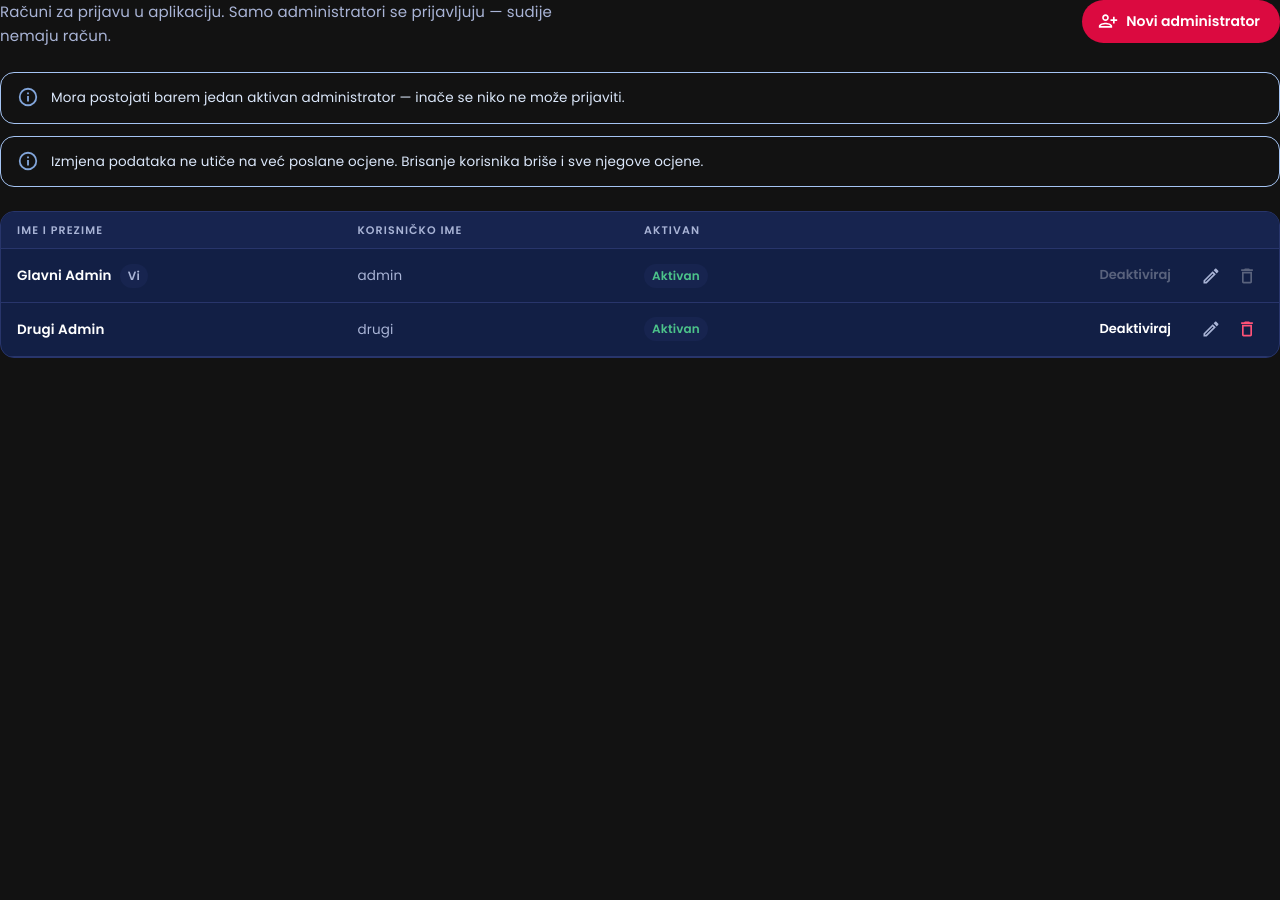
it: UsersTab › saves an edit and closes the dialog
Expected: the text "Drugi Admin" is shown, 1,302 -> 342,356
Click the button named "Izmijeni" at (1211,329), box 1195,313 -> 1227,345
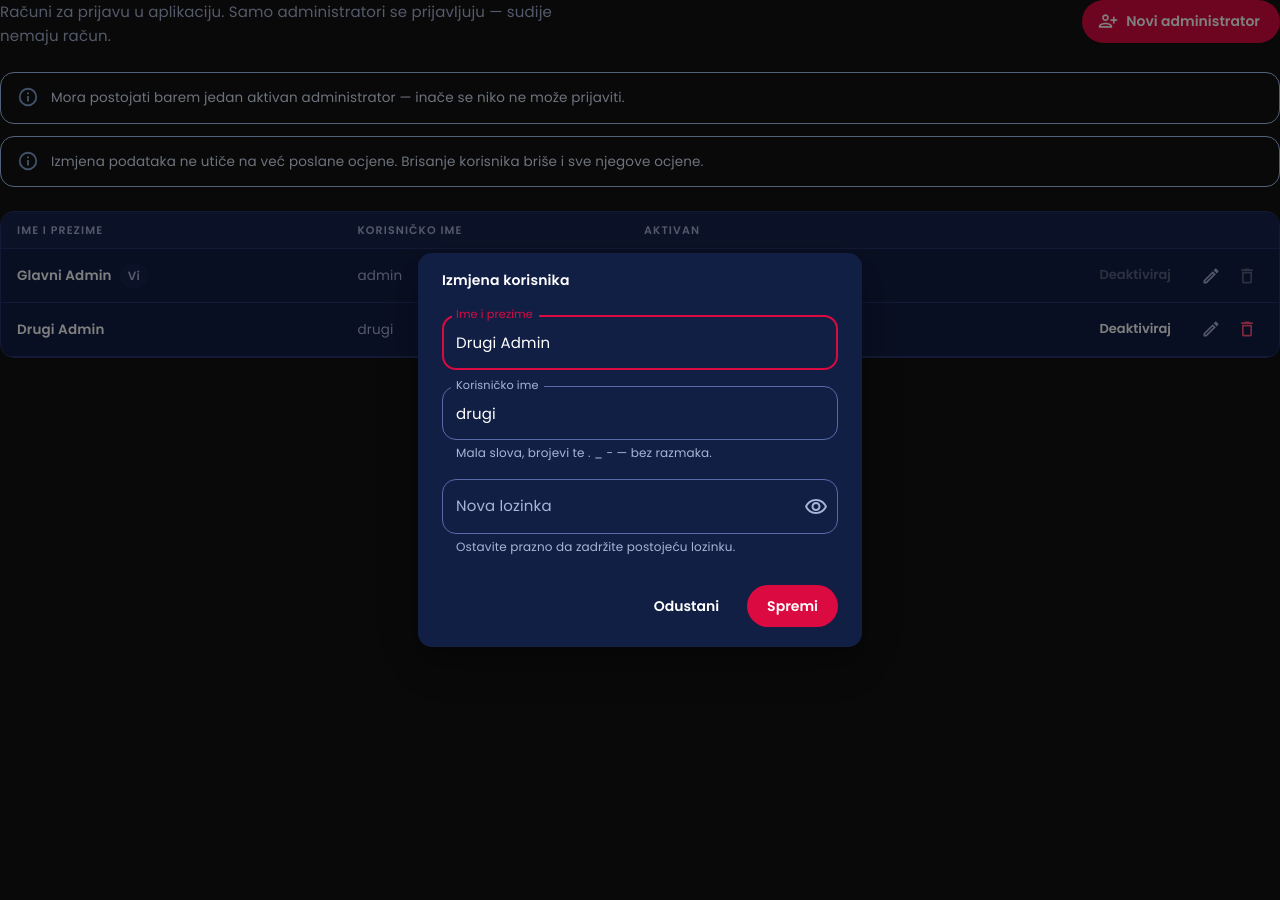
Replace the text in the field labelled "Ime i prezime" with "Sudija Jedan" at (640,342), box 442,315 -> 838,370
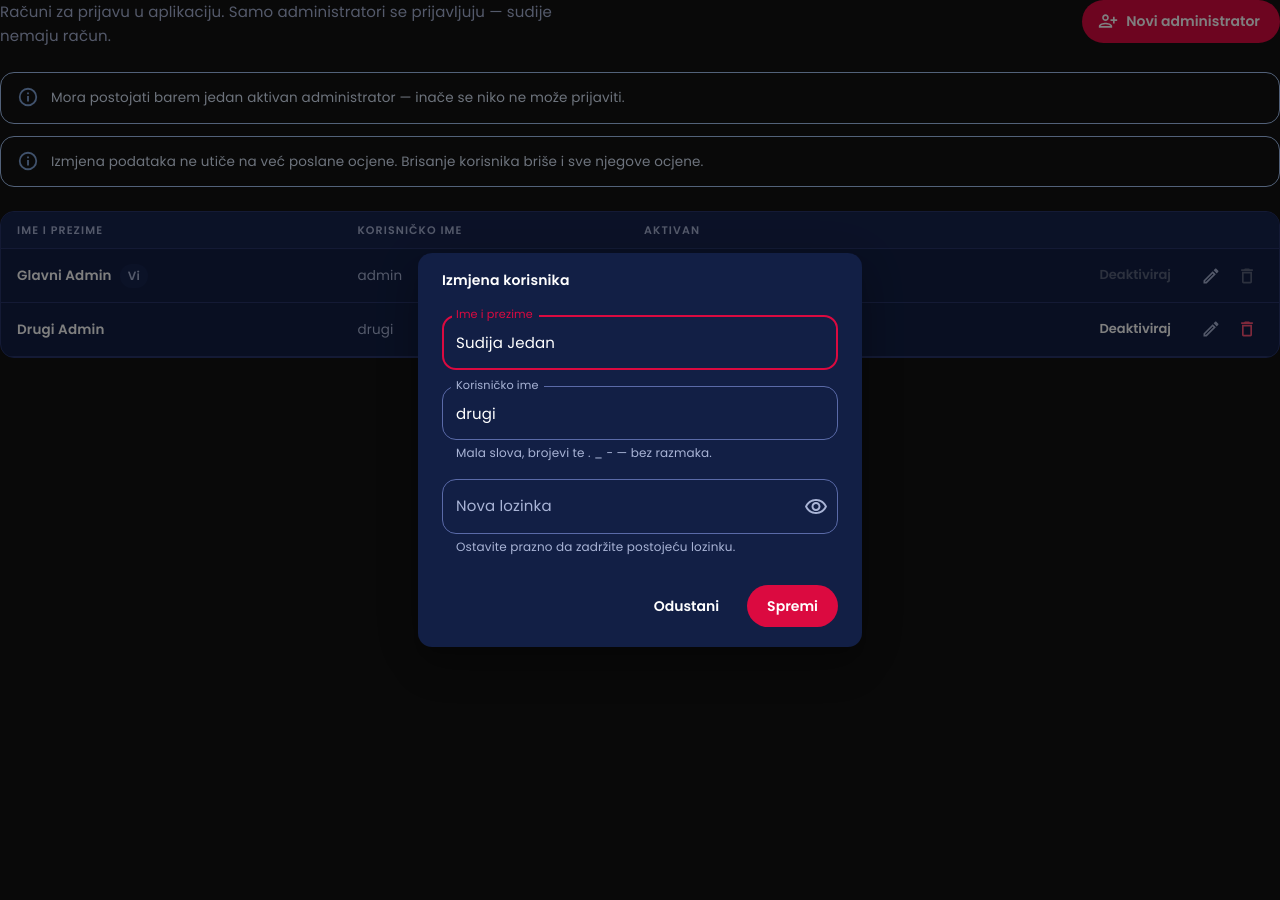
Click the button "Spremi" at (793,606), box 747,585 -> 838,627
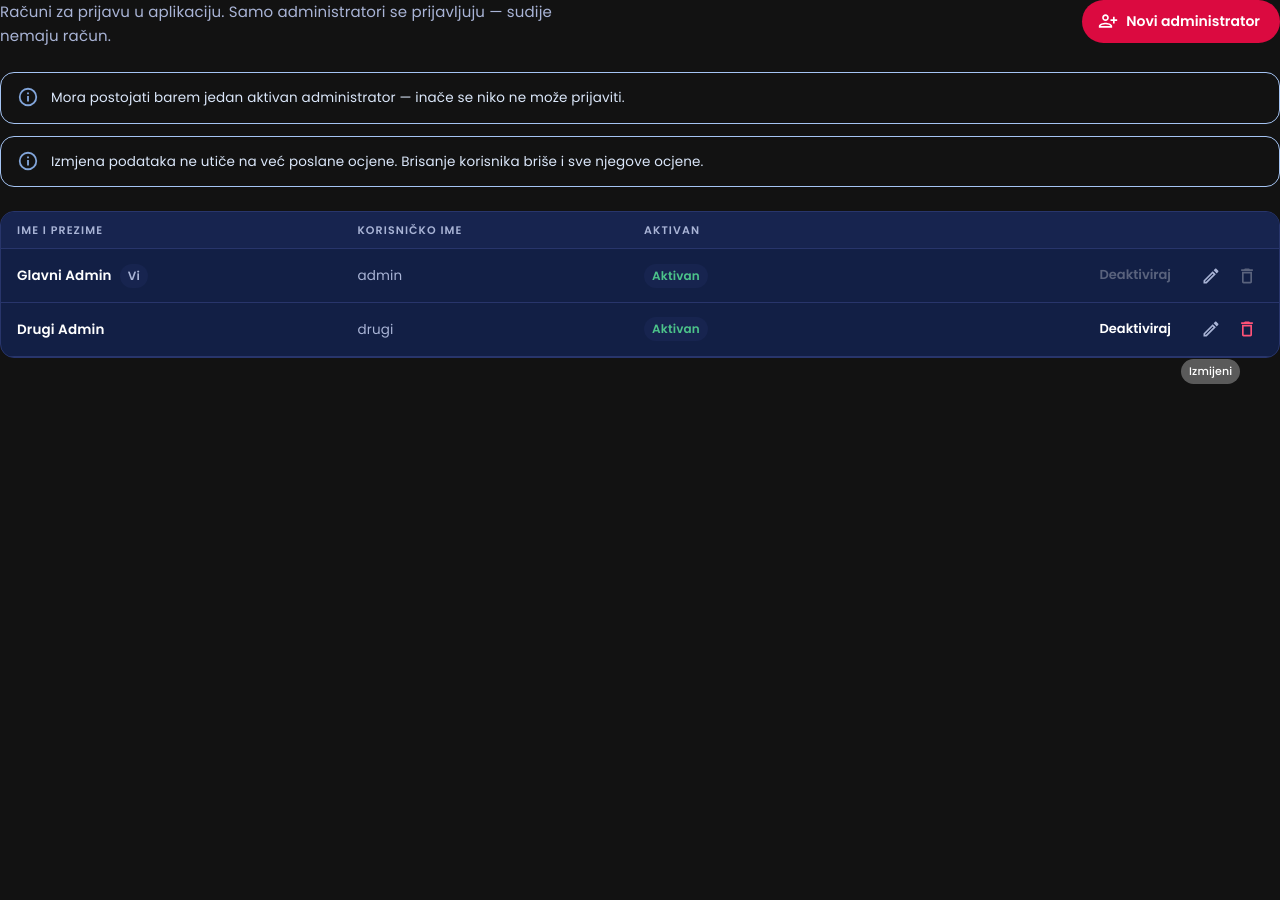
Expected: the dialog is gone
